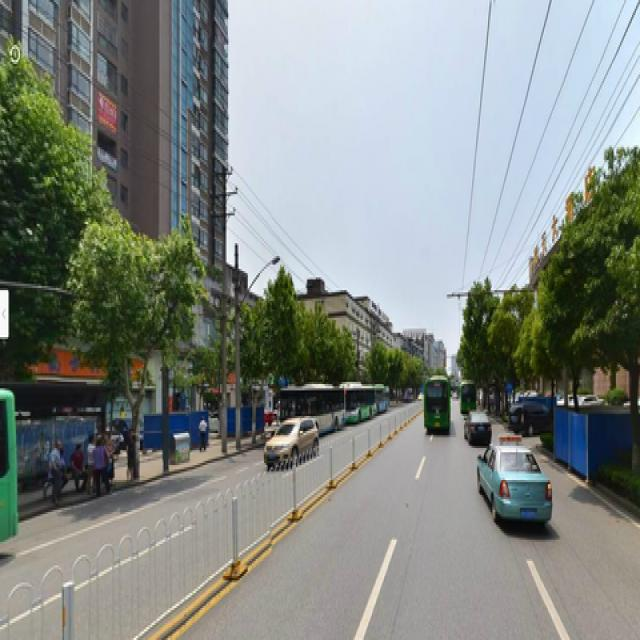meta: (92, 228, 164, 467)
